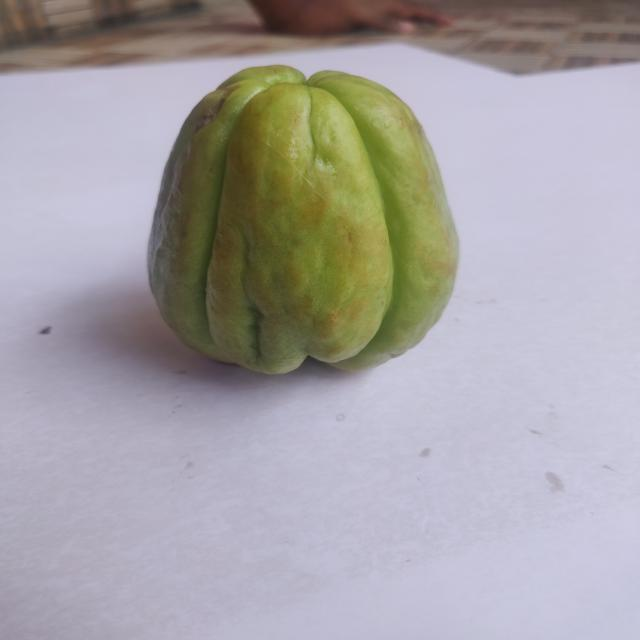Chayote: (134, 53, 482, 403)
